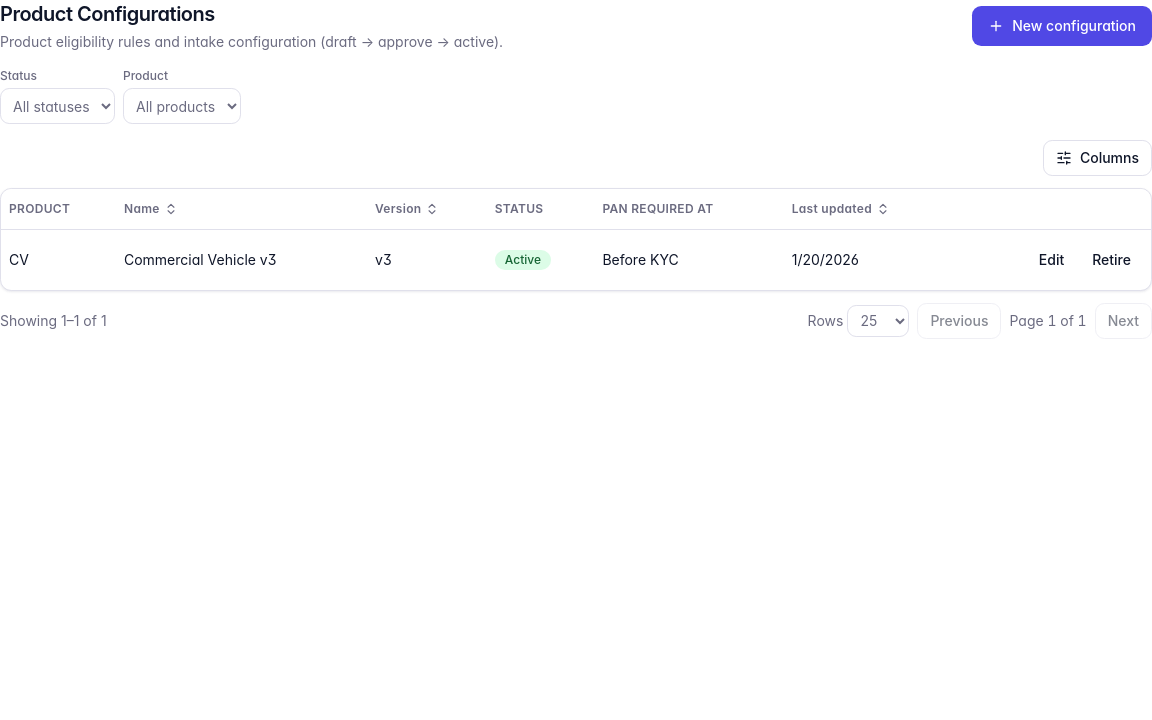
Scenario: ProductConfigPage › edit loads the full config and shows the new-draft-version notice
The image size is (1152, 720).
Click the button "Edit" at (1052, 260), box [1027,242,1076,278]
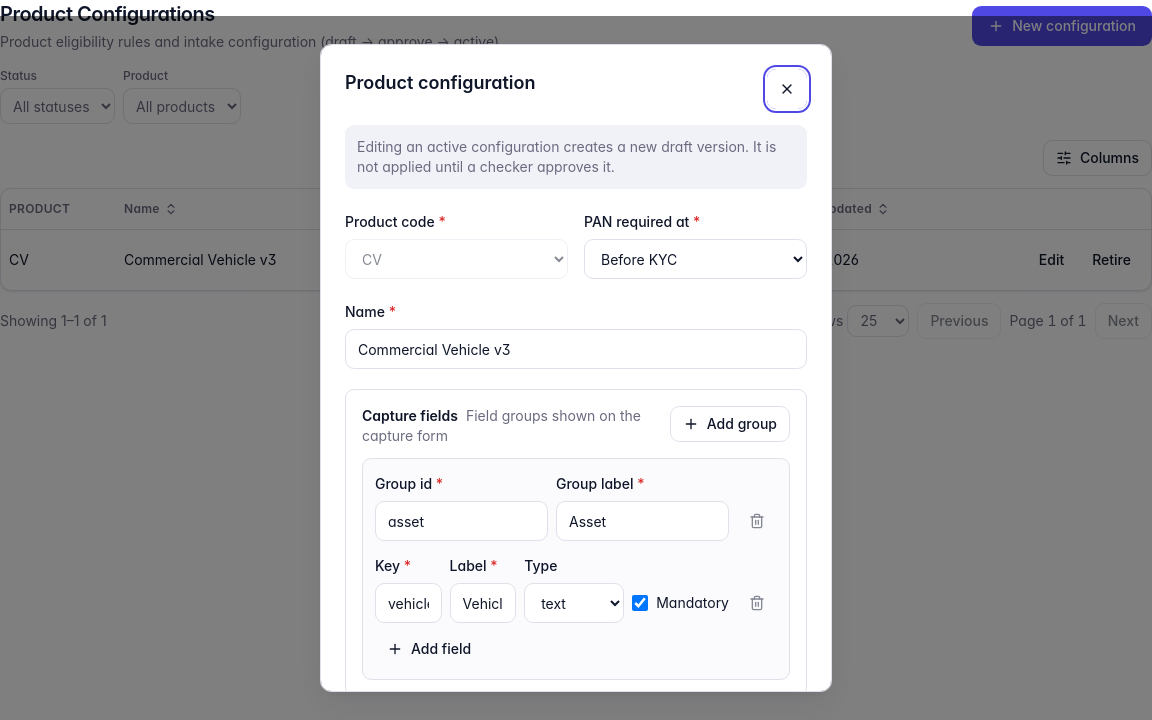
Expected: the text "creates a new draft version" is shown, [357,138,776,175]
Expected: the field showing "Commercial Vehicle v3" is shown, [345,329,807,369]
Expected: the dropdown labelled "Product code *" is disabled, [345,239,568,279]
